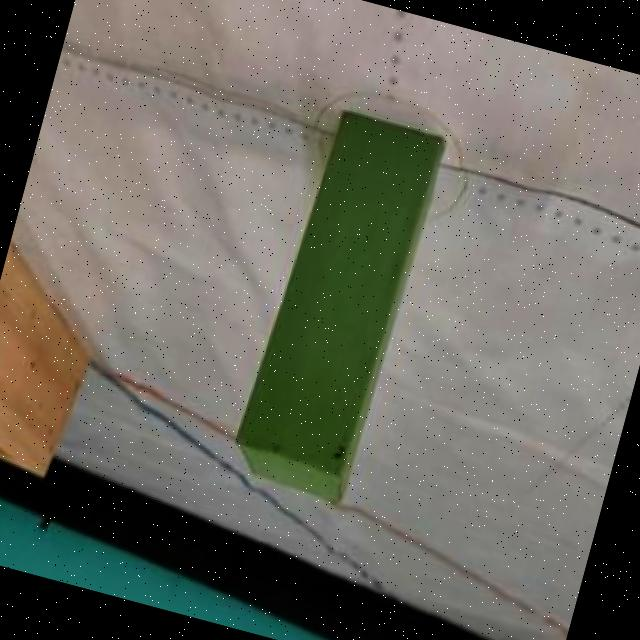greenbox: (223, 102, 454, 518)
